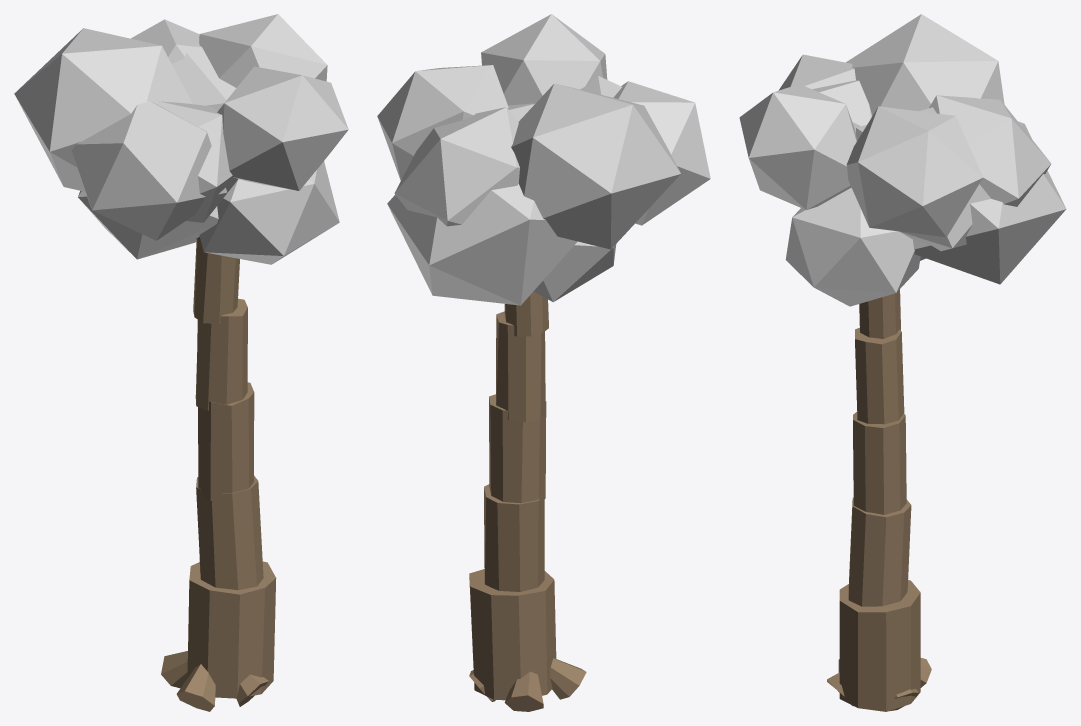
File: tree.glb
3 views of the same model, side by side, from view 1: azimuth 30°, elevation 25°; view 2: azimuth 150°, elevation 25°; view 3: azimuth 270°, elevation 25° (orthographic). The views are drawn at different scales.
Visible parts, largest first — view 1: BigTree; view 2: BigTree; view 3: BigTree.
Boxes of the visible parts, box(x1,y1,x2,y2) form: BigTree: box(14, 14, 348, 711); BigTree: box(377, 14, 710, 711); BigTree: box(739, 14, 1066, 711).
Size of the model in its own units: 8.15 by 17.54 by 8.32.
